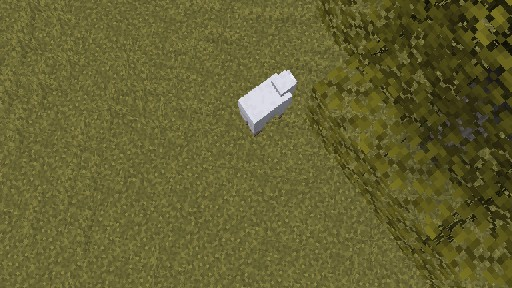sheep: (237, 68, 297, 136)
